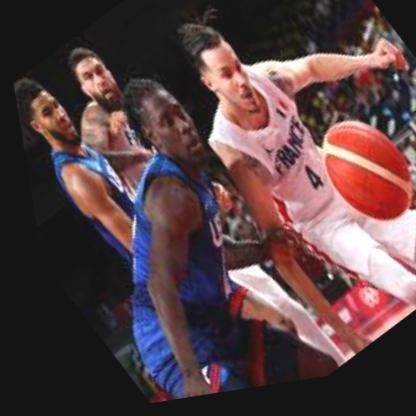basketball: (295, 109, 416, 257)
